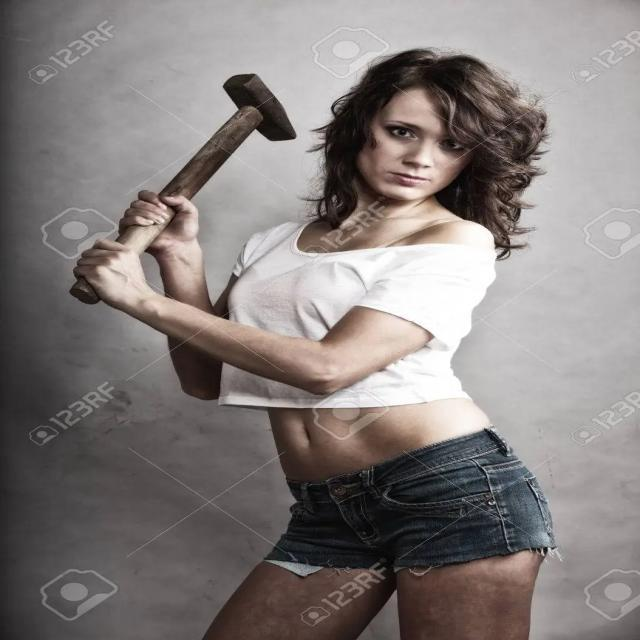hammer: (56, 66, 306, 310)
